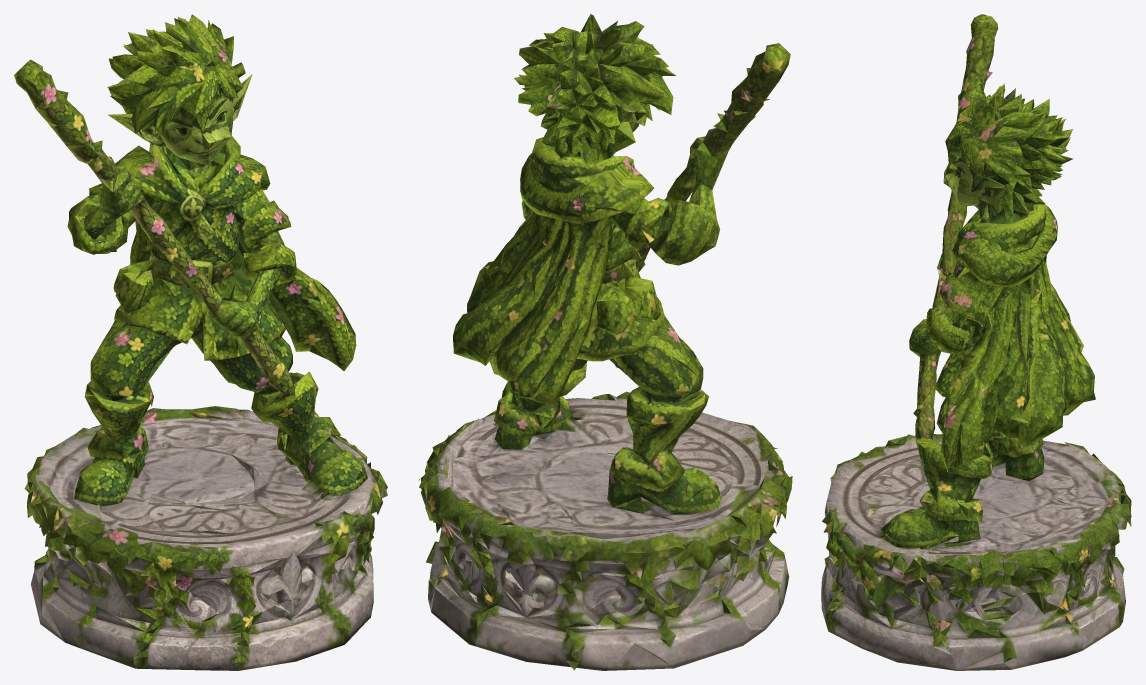
Rendered from topiary-fighter.glb.
3 views of the same model, side by side, from view 1: azimuth 30°, elevation 25°; view 2: azimuth 150°, elevation 25°; view 3: azimuth 270°, elevation 25° (orthographic). The views are drawn at different scales.
Bounding box in the file's own units: 1.22 × 2 × 1.09.
1 material, 1 textured.
